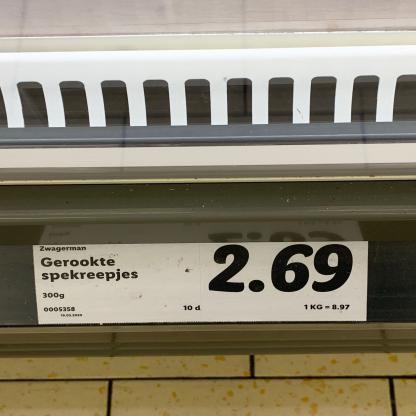prtg: (33, 242, 370, 325)
